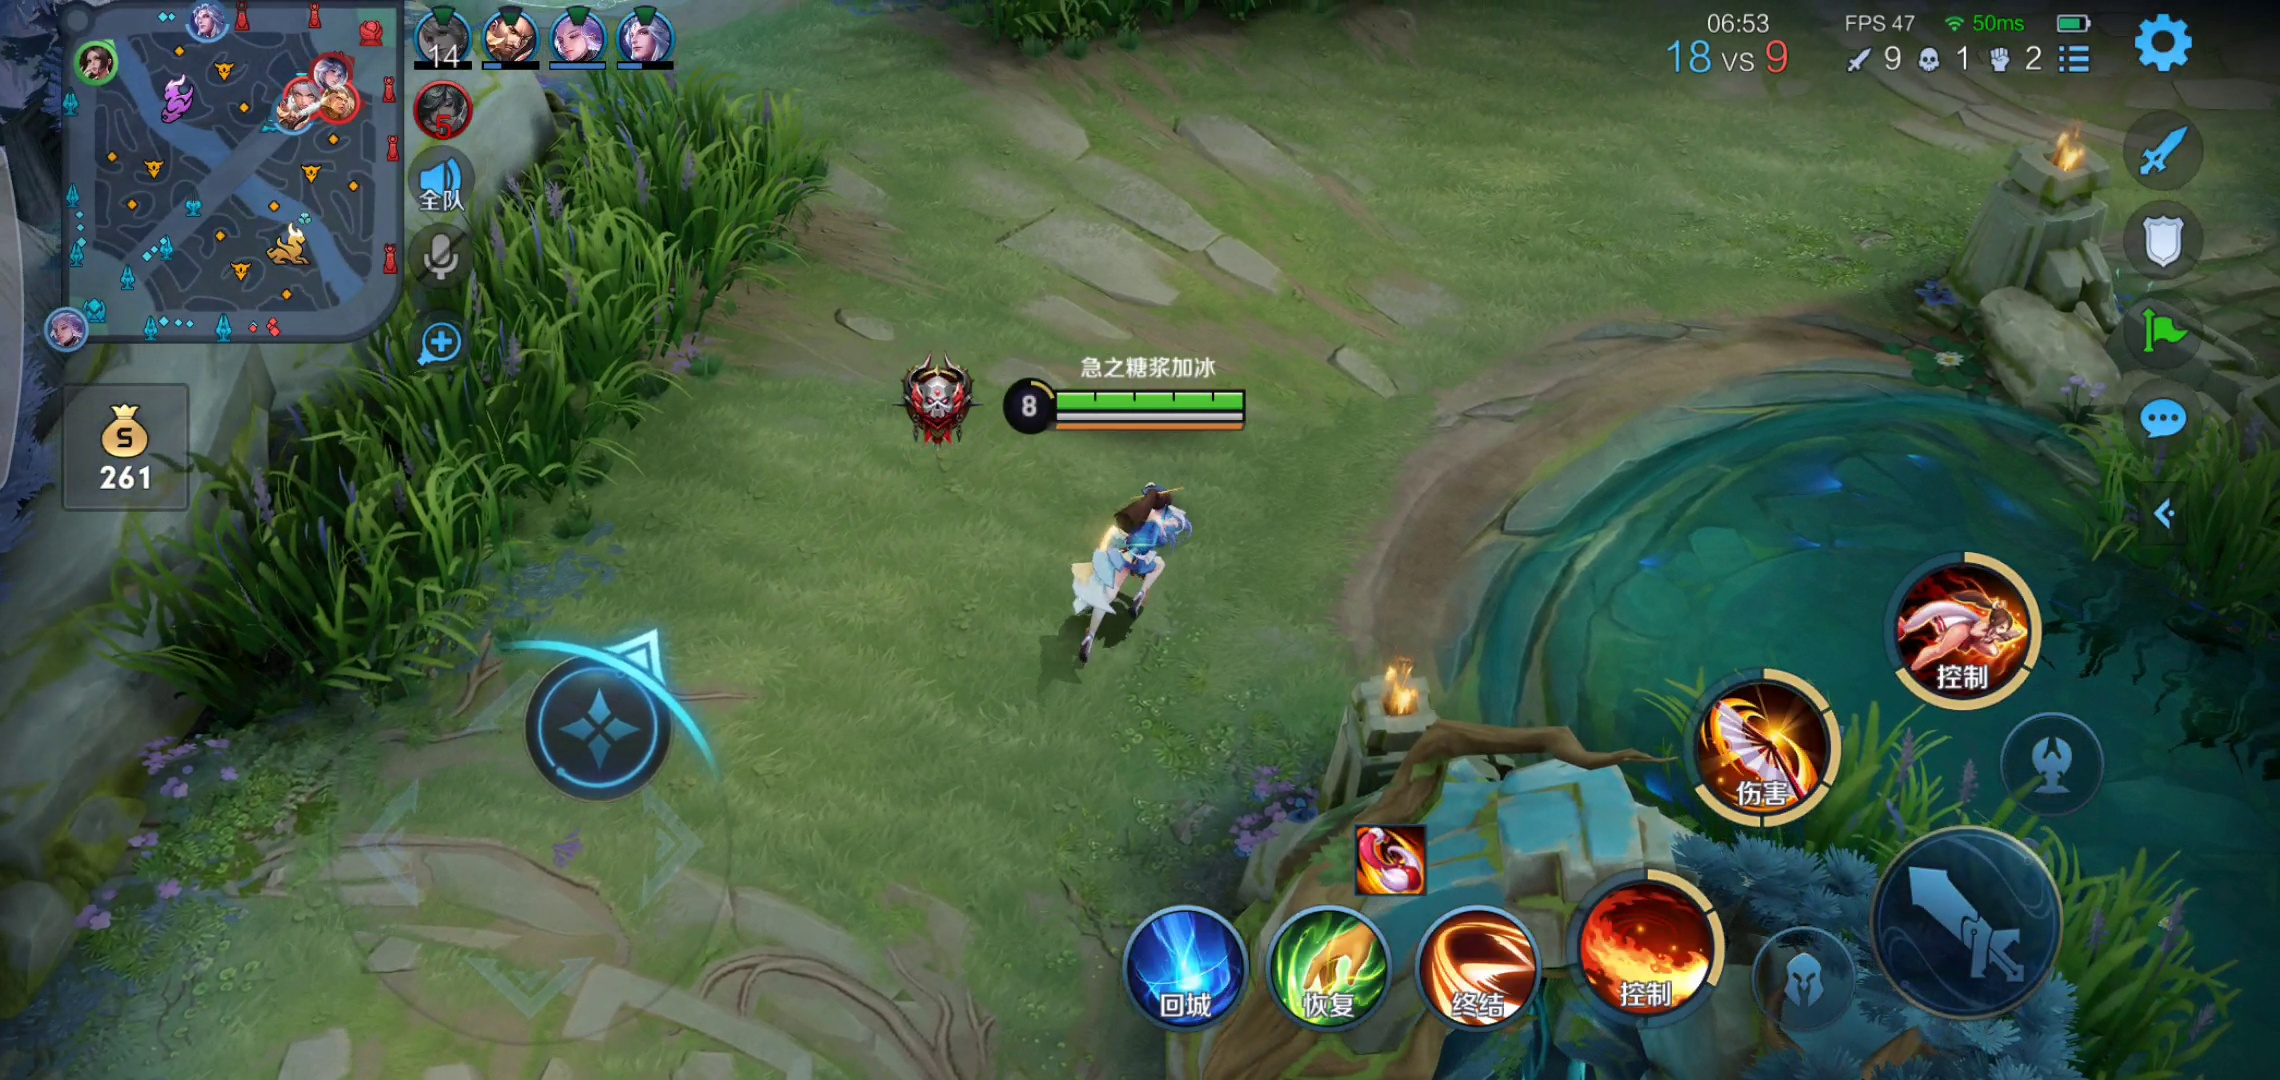grass: (95, 73, 811, 693), (1662, 688, 2223, 1076), (2075, 411, 2280, 648)
hero: (1051, 470, 1188, 677)
